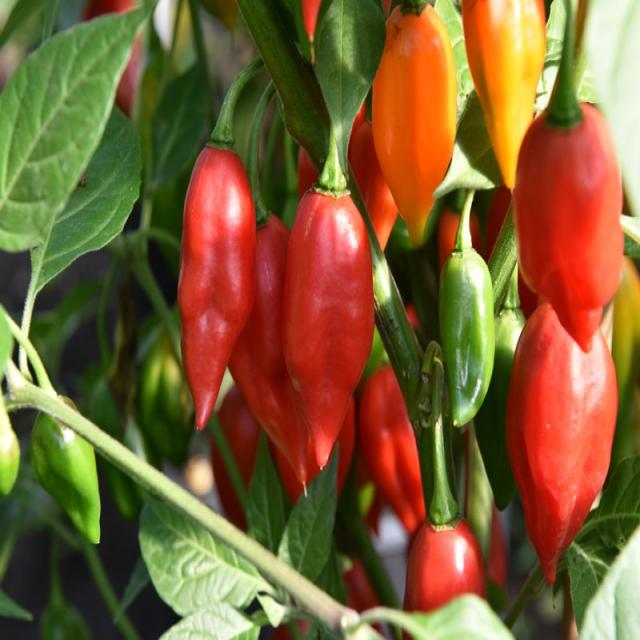Chilli Pepper: (217, 150, 354, 530), (275, 77, 382, 502), (170, 49, 265, 484), (520, 3, 631, 351), (510, 269, 624, 589), (355, 0, 475, 248), (428, 127, 511, 460), (396, 402, 500, 632), (459, 0, 558, 209)
